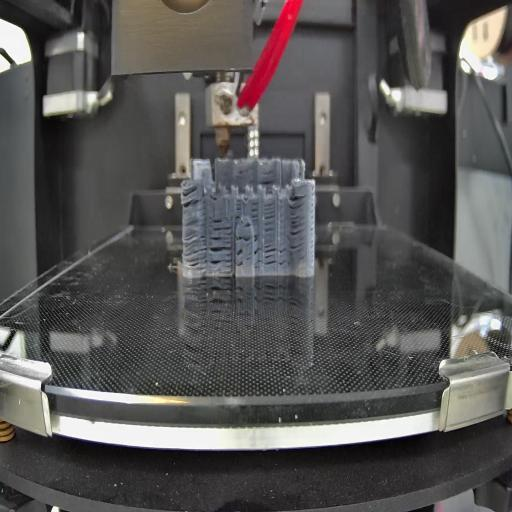cracks: (182, 220, 207, 272), (290, 193, 304, 256), (210, 236, 232, 270), (180, 186, 202, 210), (263, 203, 276, 235), (211, 219, 233, 234), (264, 246, 276, 268), (254, 235, 260, 272), (235, 249, 244, 272), (233, 198, 242, 221), (236, 235, 254, 245), (259, 178, 276, 188), (280, 243, 286, 270), (251, 204, 259, 222), (243, 222, 252, 228)
